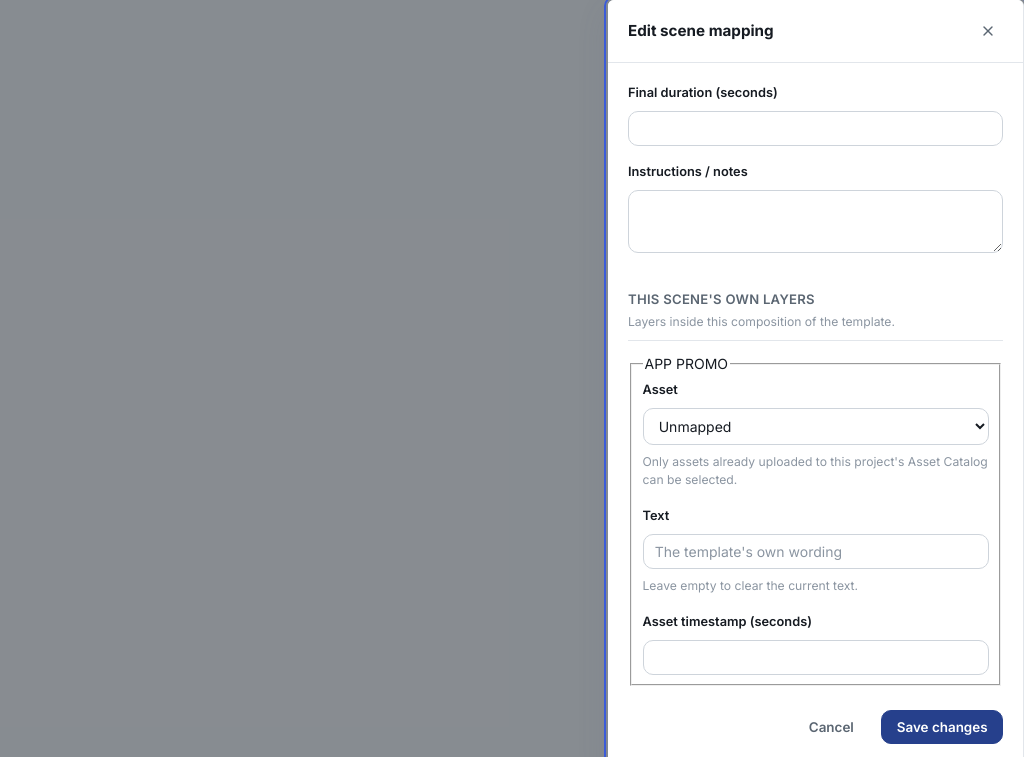
Test: SceneEditDrawer › shows a save-failed error (never silently discards the edit) when the API rejects the change
Check: the text "APP PROMO" is shown, box [642, 353, 730, 375]
In the field labelled "Text": (816, 552) [642, 534, 988, 569], type "Hello"
(page scrolled)
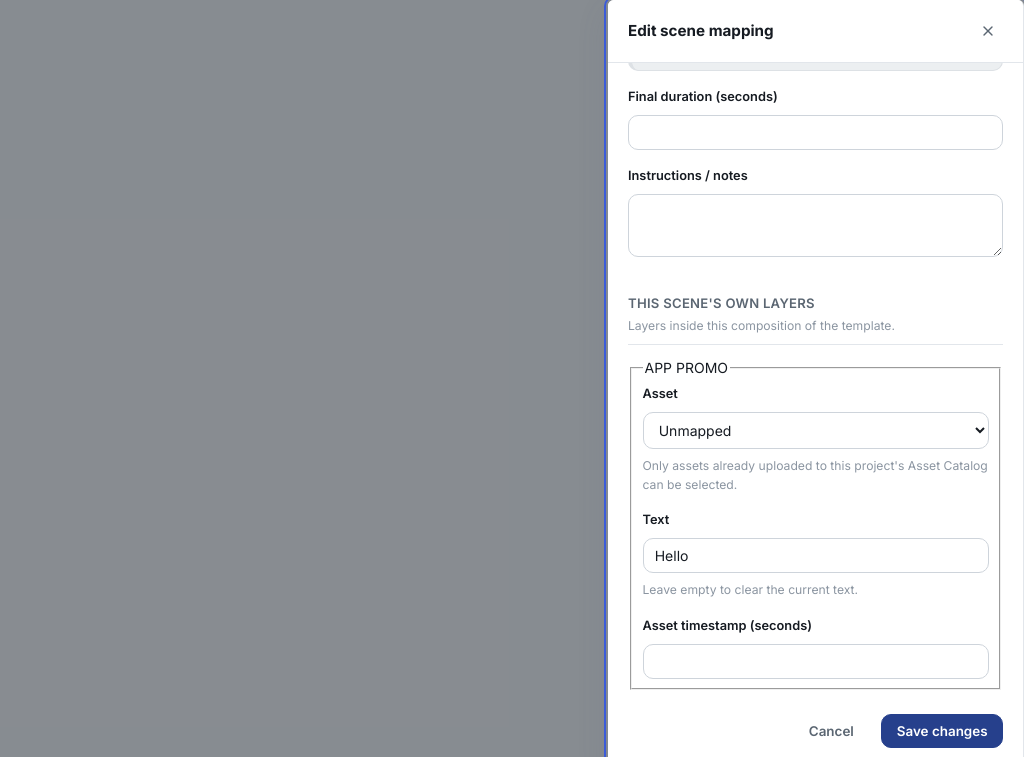
Click the button "Save changes": click(942, 731) [881, 714, 1003, 748]
(page scrolled)
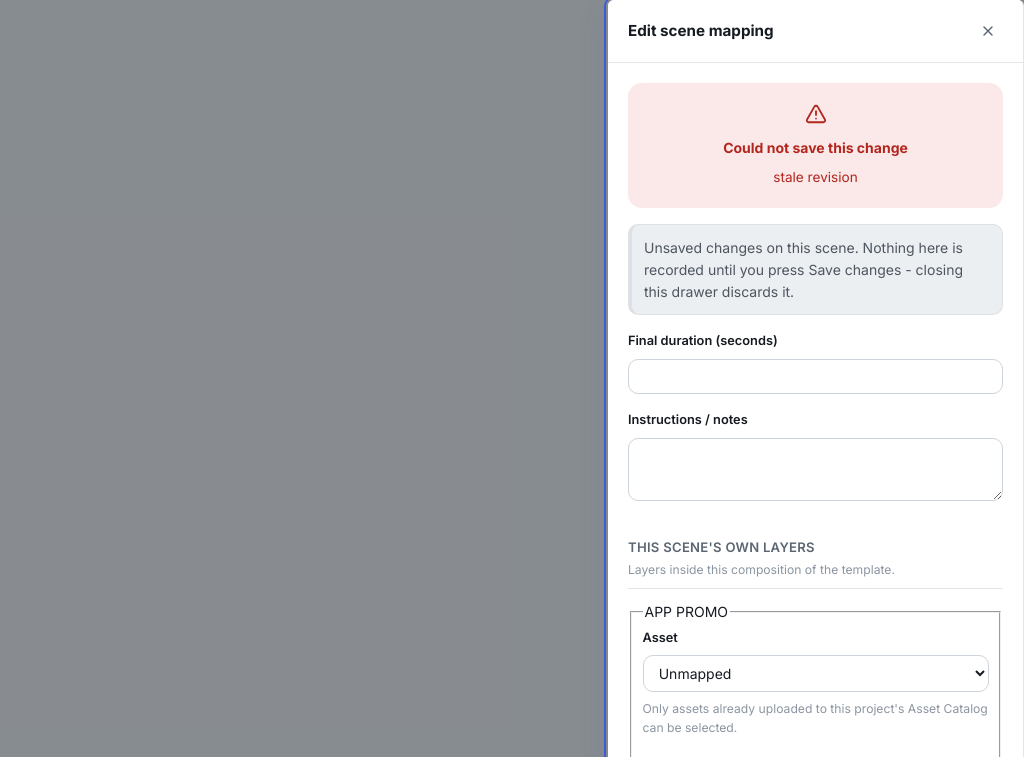
Check: the text "Could not save this change" is shown, box [723, 137, 908, 159]
